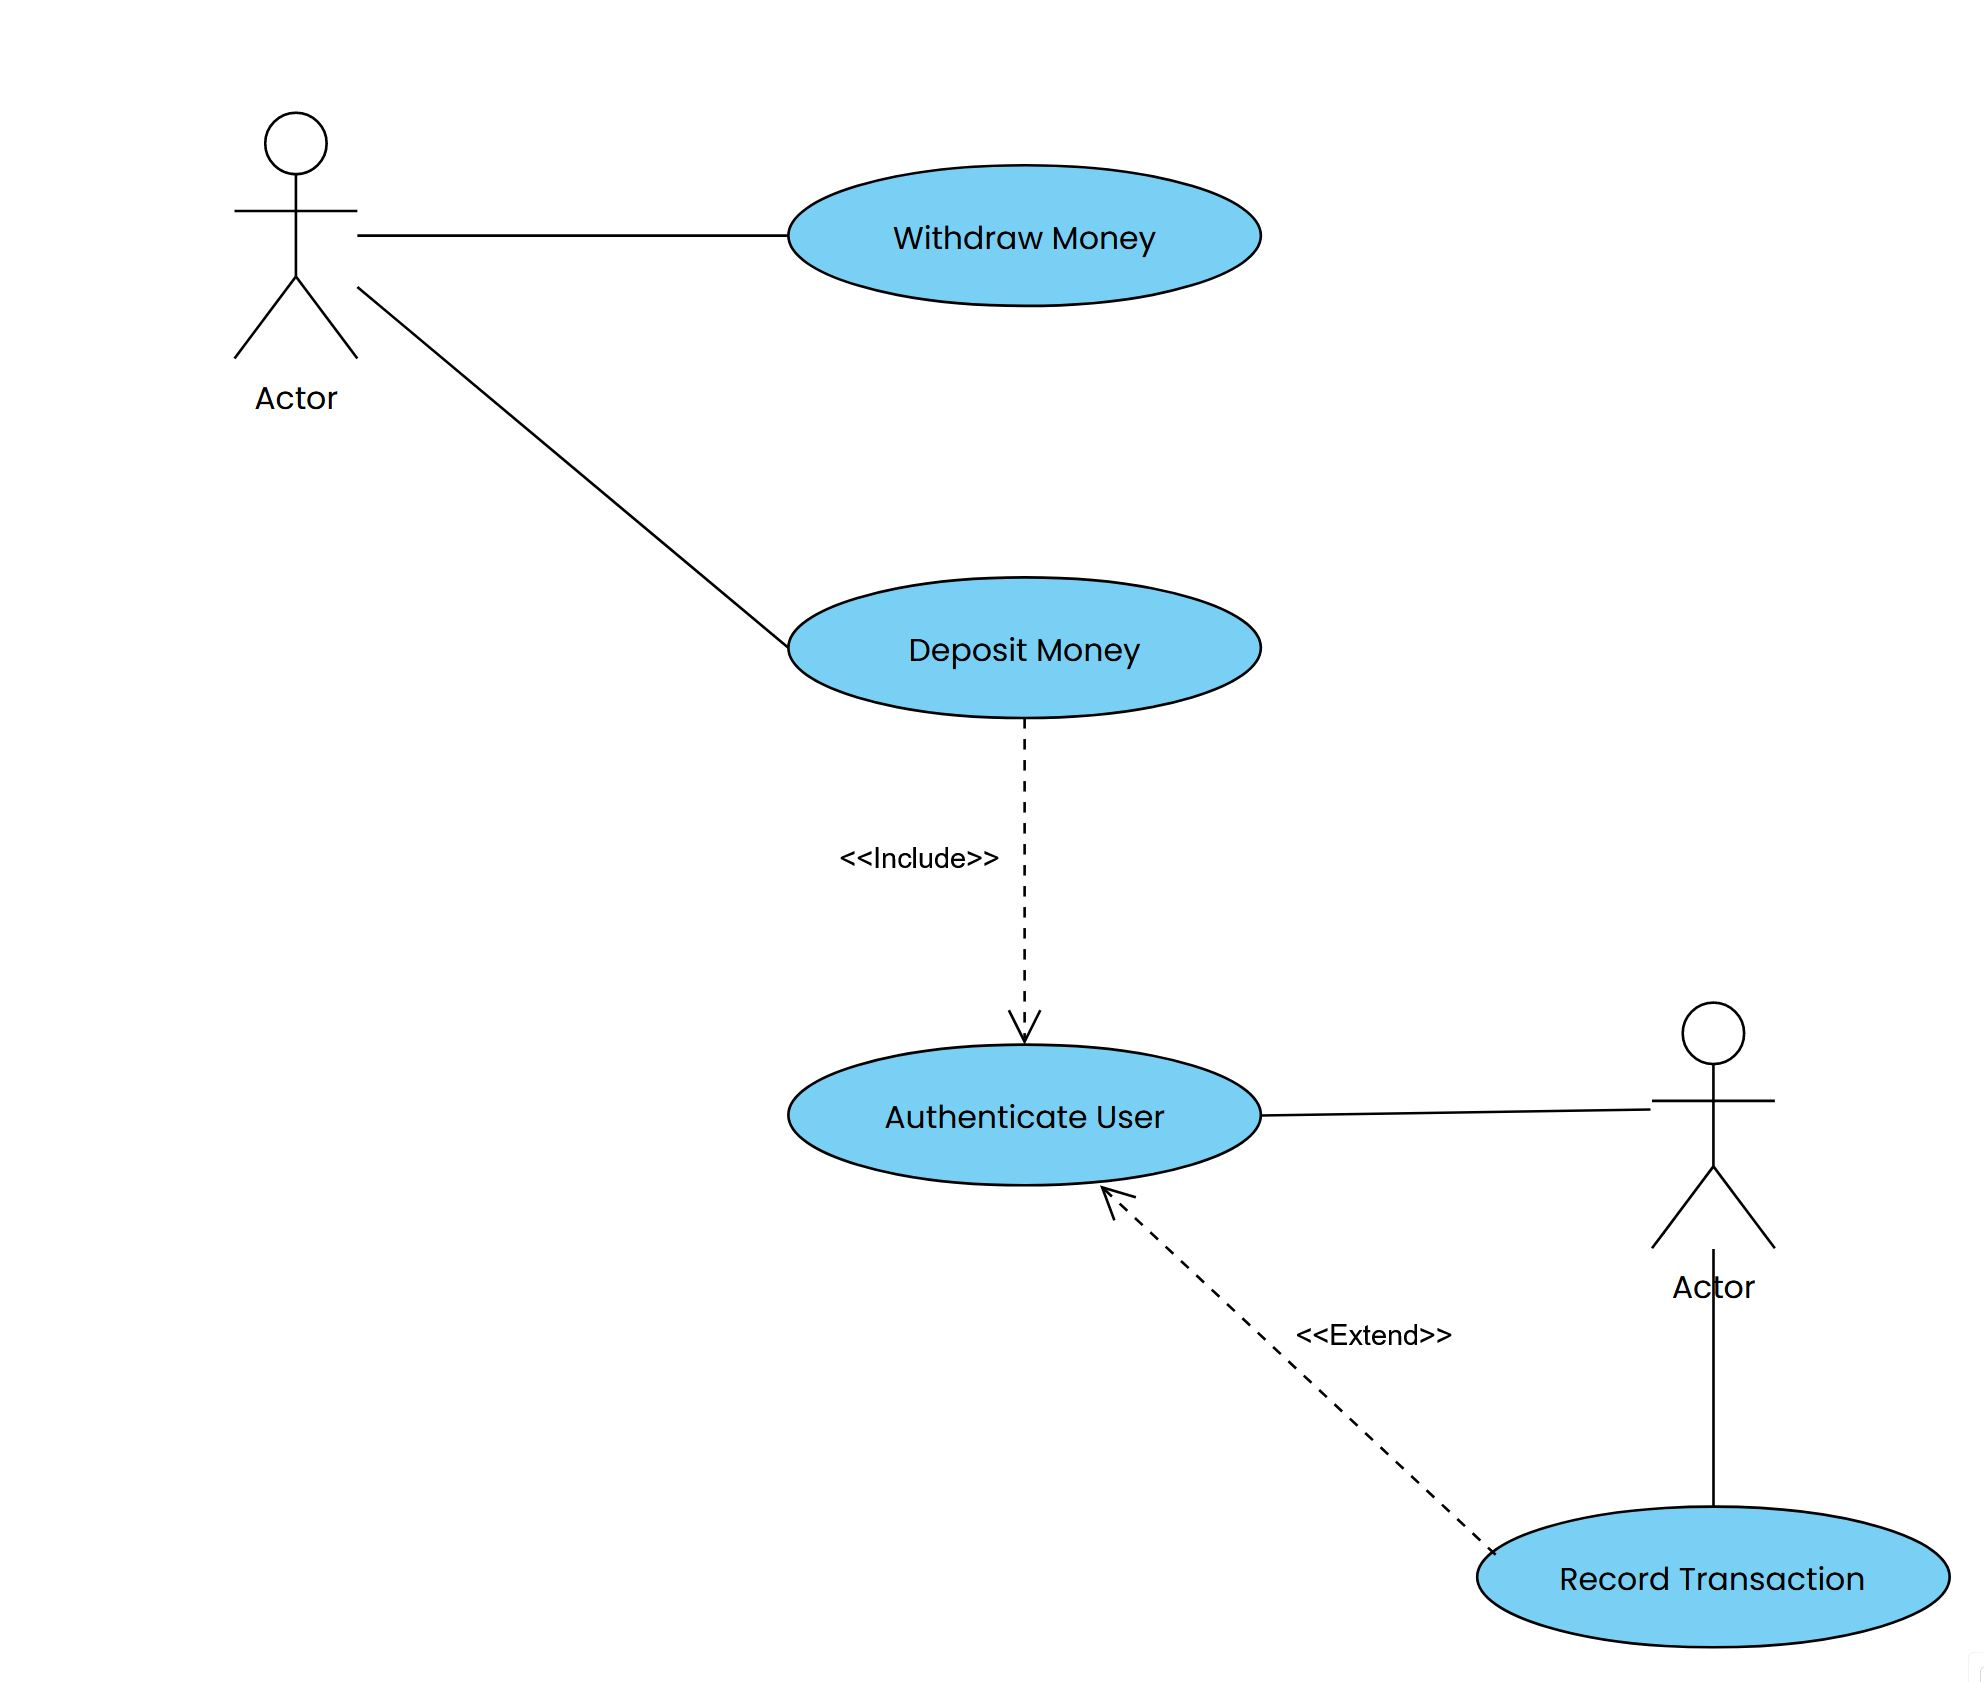actor: (239, 97, 365, 365), (1662, 996, 1774, 1255)
association: (359, 277, 781, 641), (1095, 1181, 1492, 1544), (362, 205, 779, 279), (1270, 1083, 1654, 1140), (1005, 721, 1048, 1040)
text: (884, 204, 1166, 272), (873, 1088, 1176, 1145), (1553, 1554, 1866, 1605), (906, 626, 1151, 681), (1297, 1317, 1460, 1358), (833, 839, 1006, 878), (247, 372, 357, 422), (1665, 1263, 1759, 1313)
use_case: (783, 159, 1266, 315), (779, 1040, 1263, 1195), (784, 571, 1261, 724), (1473, 1503, 1954, 1654)
